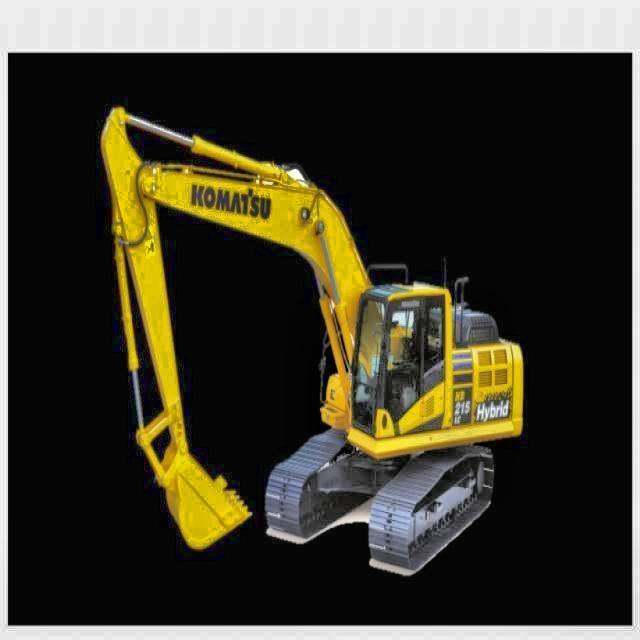excavator: (97, 104, 526, 576)
